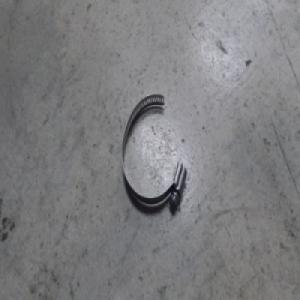AdjustableClamp: (119, 92, 188, 219)
